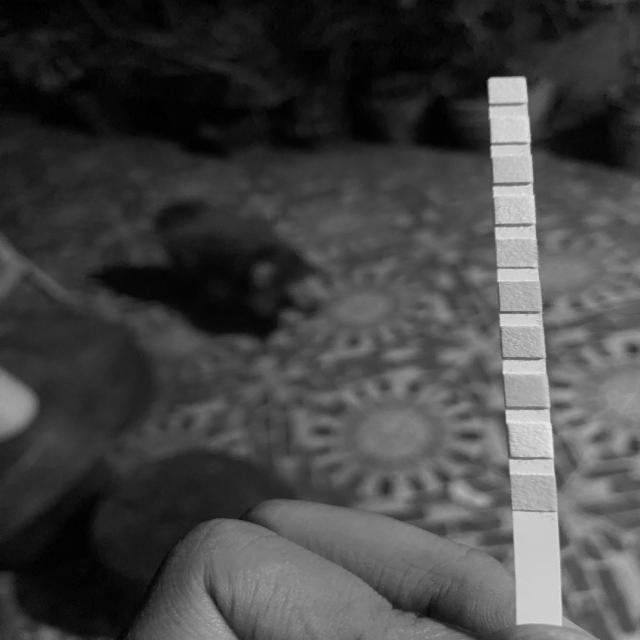Bilirubin: (511, 423, 552, 458)
Blood: (500, 281, 540, 312)
Glucose: (513, 474, 555, 510)
Ketone: (506, 374, 547, 407)
Leukocytes: (490, 79, 526, 101)
Nitrite: (492, 118, 530, 142)
Protein: (495, 196, 534, 223)
SpGravity: (502, 327, 544, 358)
Urobilinogen: (493, 156, 532, 182)
background: (0, 0, 640, 640)
pH: (496, 239, 538, 267)
strip: (489, 77, 563, 623)
